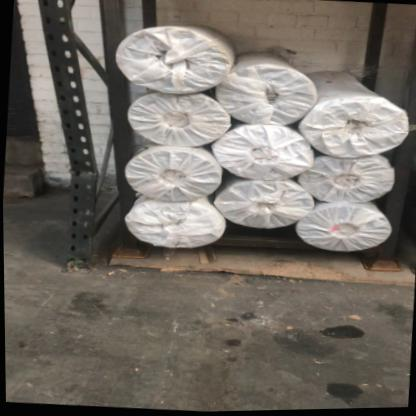vertical_damage: (53, 128, 110, 218)
